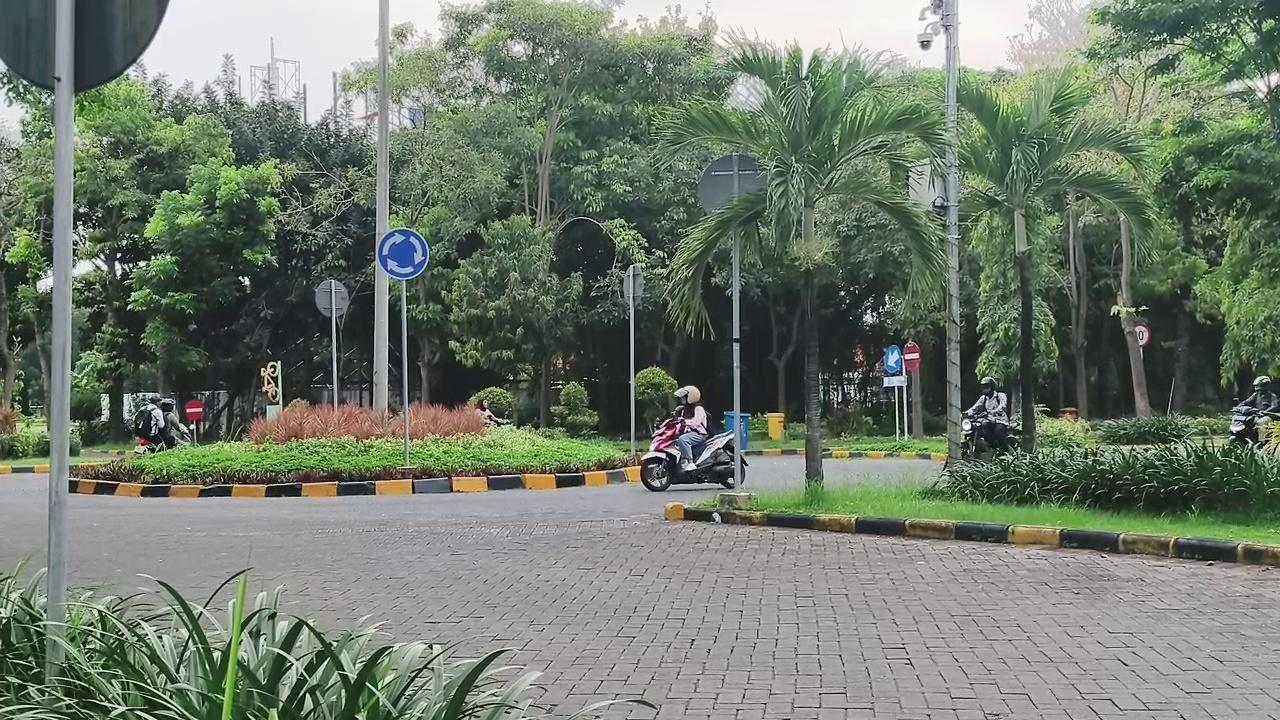Helmet: (968, 376, 1008, 450), (674, 386, 707, 471), (1241, 375, 1279, 424)
Motor: (640, 415, 736, 491), (961, 411, 1018, 459), (1229, 405, 1276, 445), (134, 438, 169, 454)
